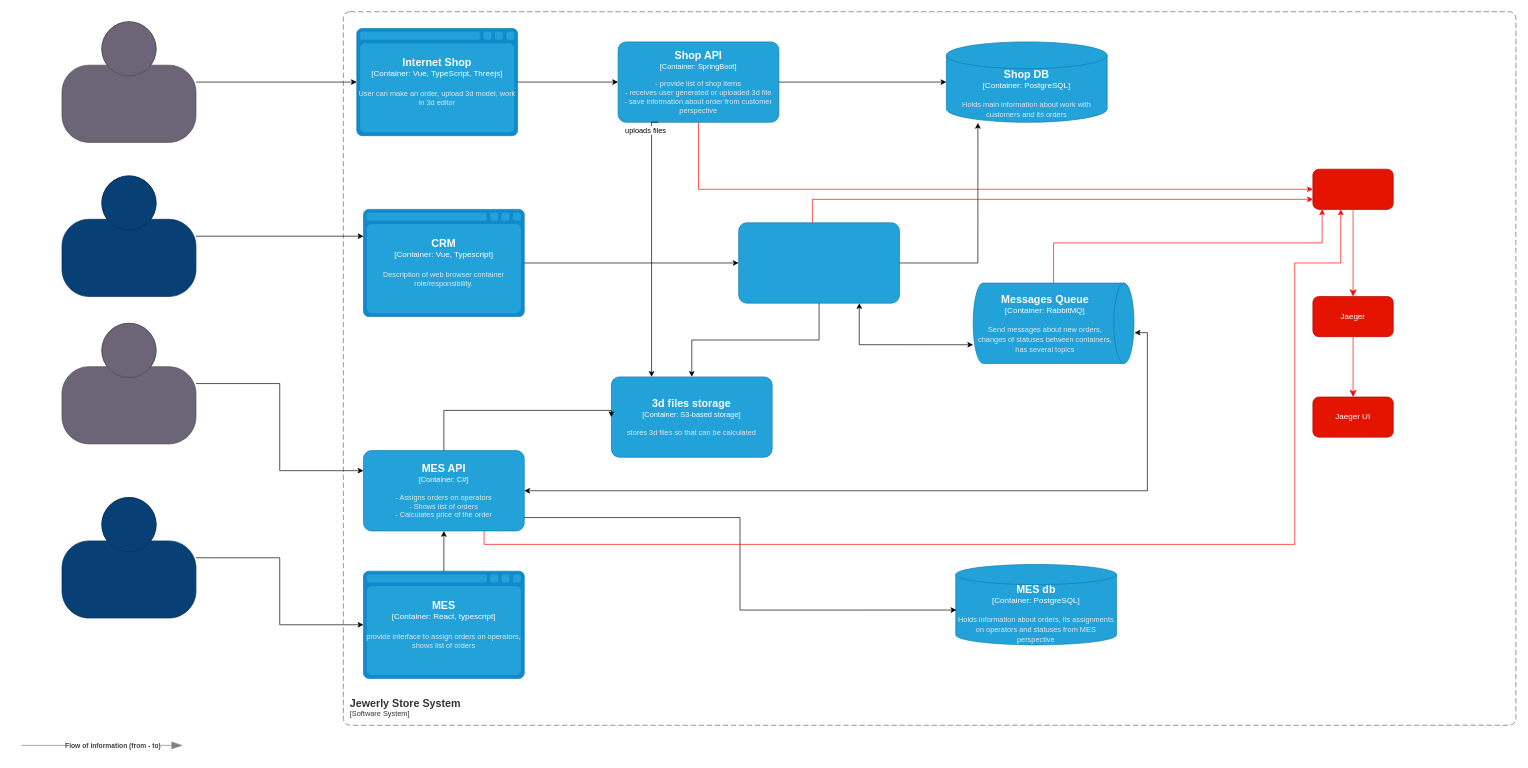
Image size: 1528x768. Some labels were removed from this diagram. Each missing label, with the box of its shape:
API user [Person] Description of external person.: (61, 323, 196, 444)
CRM API [Container: SpringBoot] Description of container role/responsibility.: (738, 222, 899, 303)
Customer [Person] Description of external person.: (61, 21, 196, 142)
Operator [Person] Takes order in work, manufactures jewerly: (61, 497, 196, 618)
OTel Collector: (1312, 169, 1393, 209)
Seller [Person] Operates with order, confirms manufacturing for the user: (61, 175, 196, 296)
